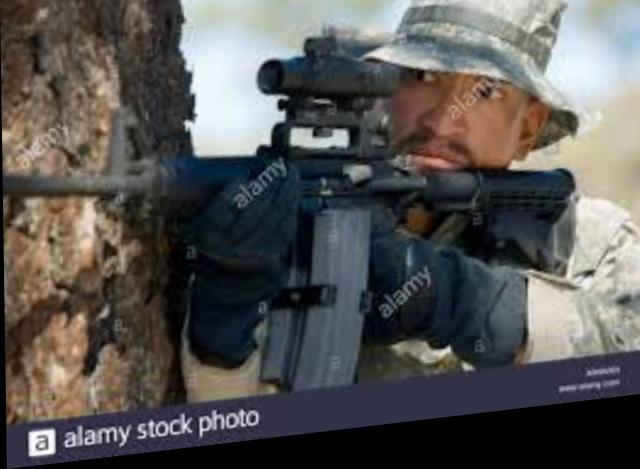other: (293, 0, 640, 398)
